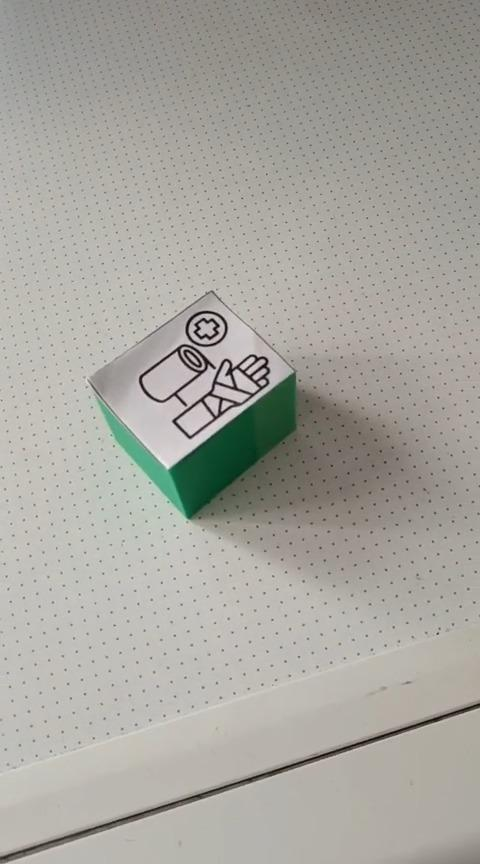Bandages: (85, 288, 297, 519)
